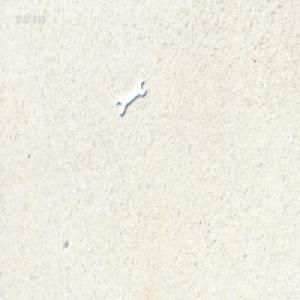Wrench: (115, 79, 146, 115)
